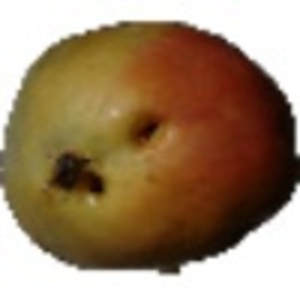mamão: (2, 15, 298, 276)
